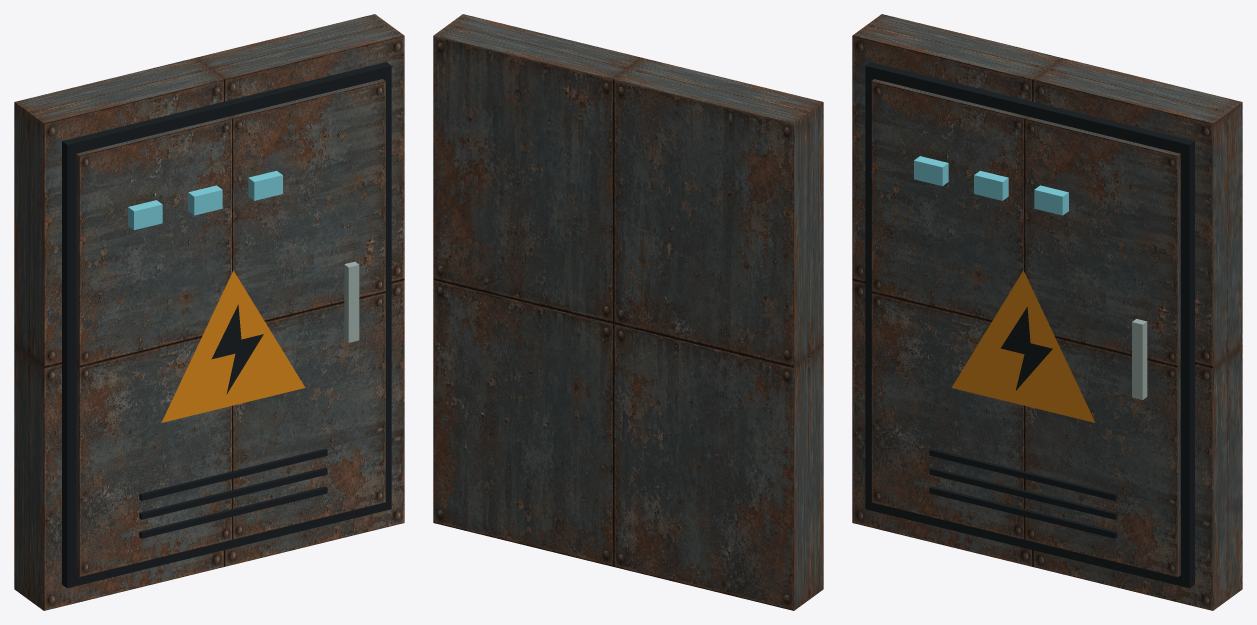
The model's file is ElectricalCabinet.obj.
3 renders of one model, left to right at view 1: azimuth 30°, elevation 25°; view 2: azimuth 150°, elevation 25°; view 3: azimuth 330°, elevation 25°, orthographic.
Parts seen in each view (by area): view 1: ElectricalCabinet; view 2: ElectricalCabinet; view 3: ElectricalCabinet.
Boxes of the visible parts, <box> form: ElectricalCabinet: <box>14,14,404,610</box>; ElectricalCabinet: <box>433,14,823,610</box>; ElectricalCabinet: <box>852,14,1242,610</box>.
Bounding box in the file's own units: 1.2 × 1.55 × 0.2525.
5 materials, 1 textured.
